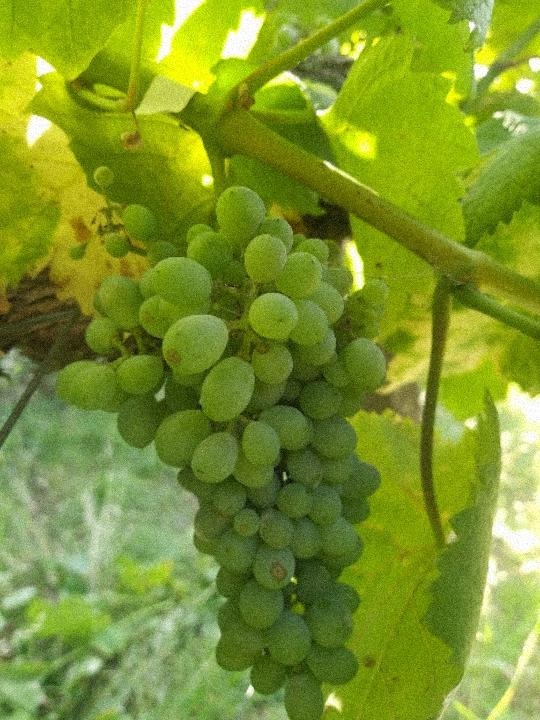grape: (48, 164, 394, 720)
